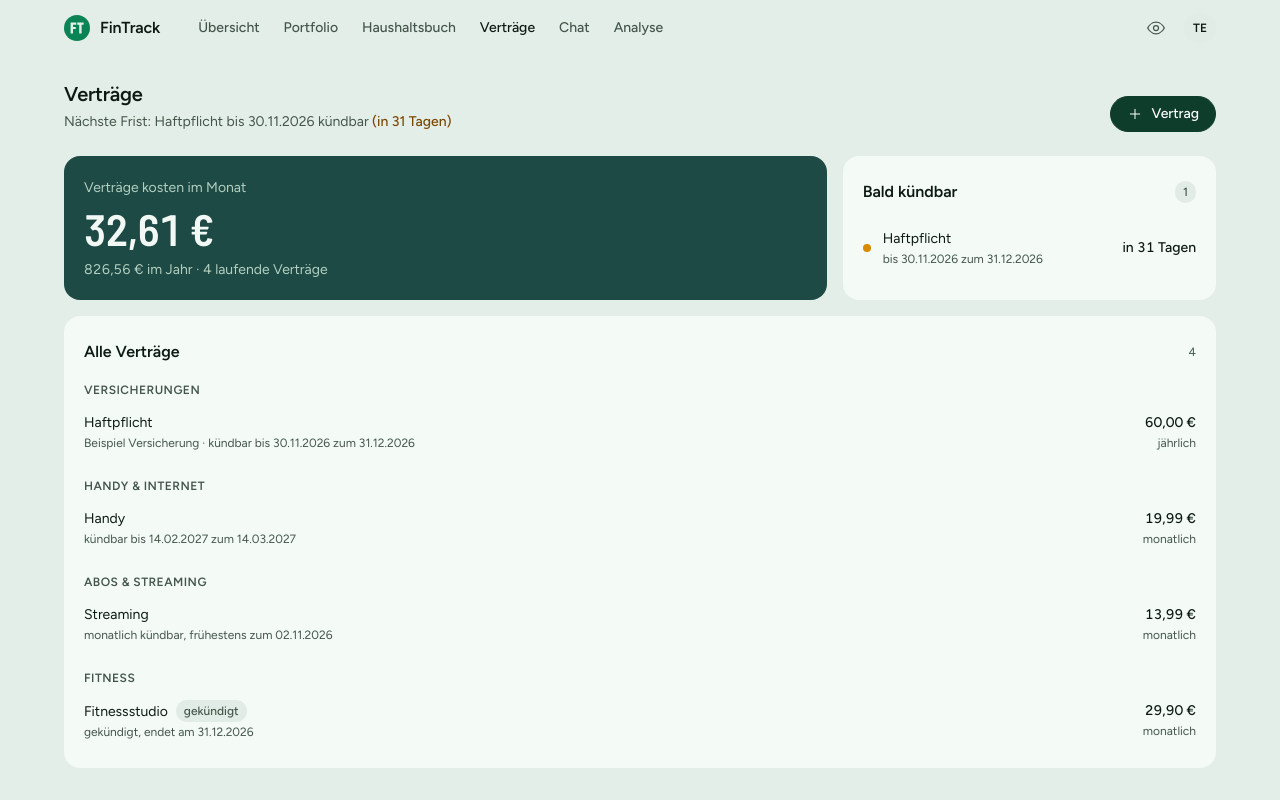
Test: Verträge › bearbeitet einen Vertrag
This screenshot has width=1280, height=800.
Click the button "Handy".
click(105, 518)  # box [84,500,1196,556]
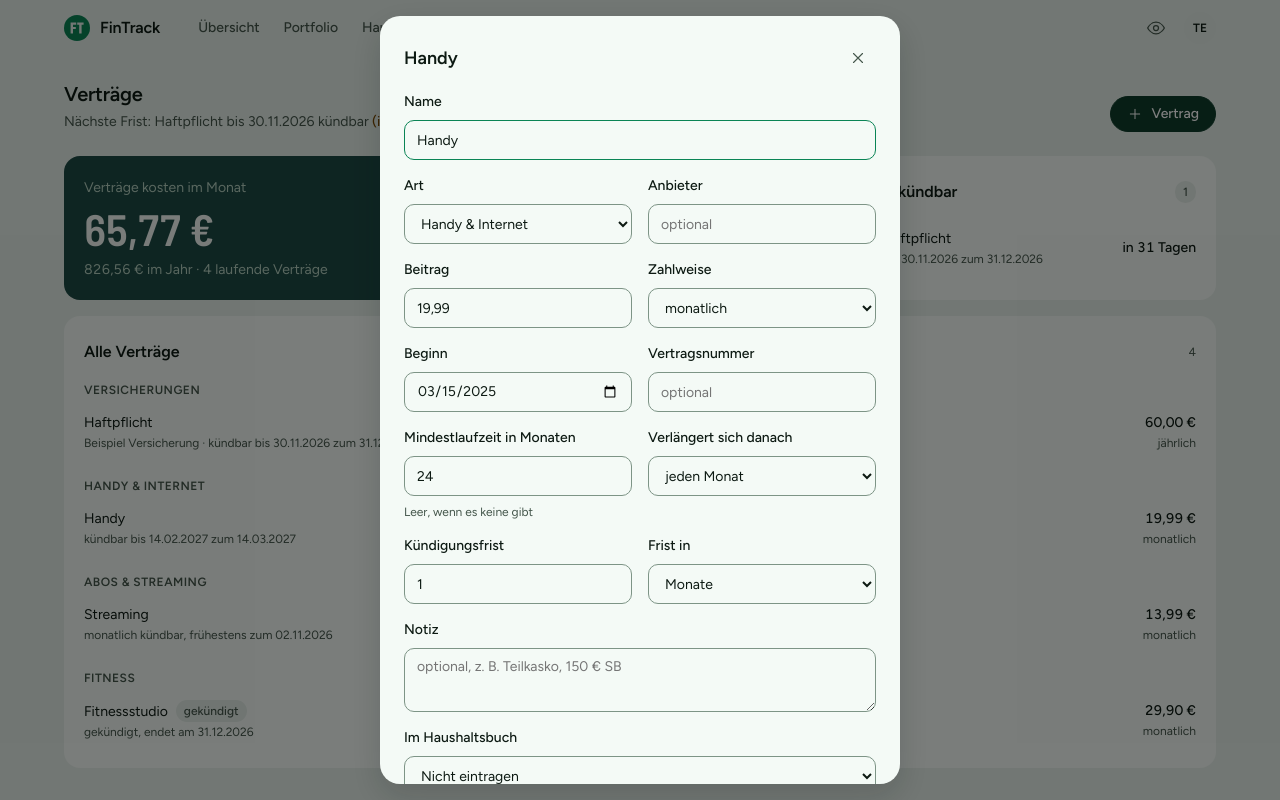
Result: the field labelled "Beitrag" holds "19,99"
Replace the text in the field labelled "Beitrag" with "24,99" at (518, 308), box [404,288,632,328]
(page scrolled)
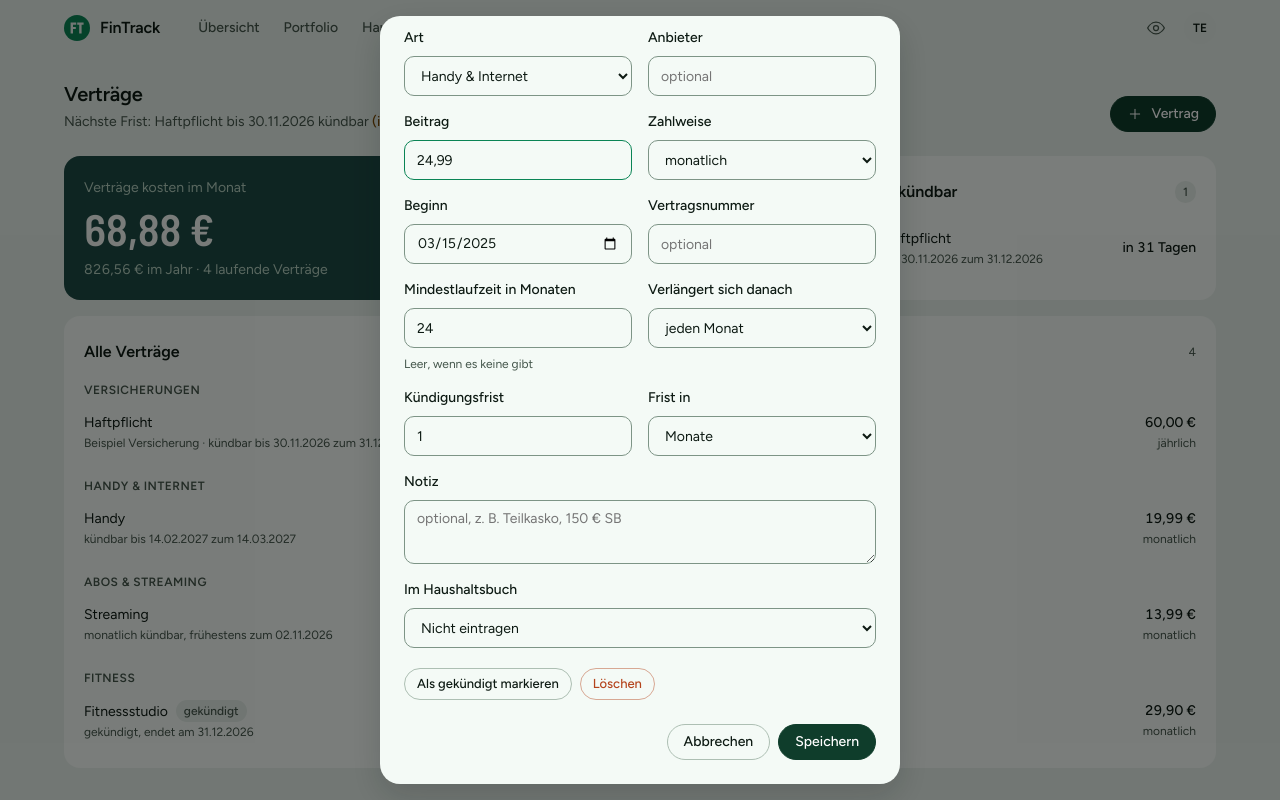
Click the button "Speichern".
click(827, 742)  # box [778,724,876,760]
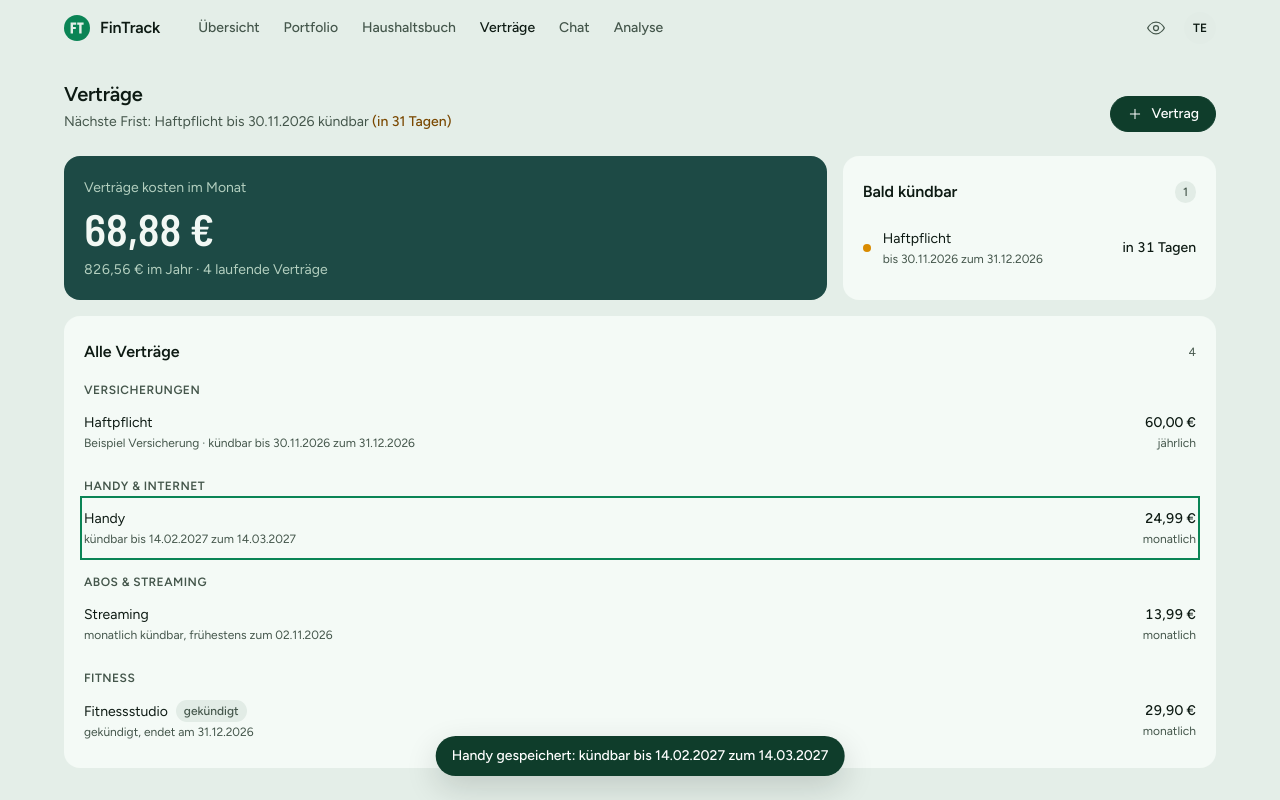
Result: the text "Handy gespeichert: kündbar bis 14.02.2027 zum 14.03.2027" is shown at [436,736,844,776]
